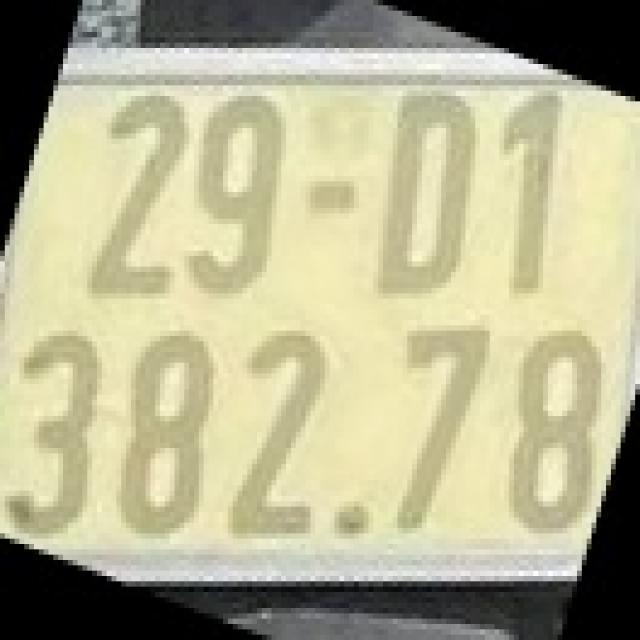1: (490, 85, 572, 299)
2: (228, 321, 330, 538), (82, 85, 184, 299)
3: (5, 326, 102, 534)
7: (388, 314, 494, 534)
8: (504, 321, 606, 538), (116, 326, 218, 538)
9: (184, 85, 286, 299)
D: (373, 85, 480, 299)
